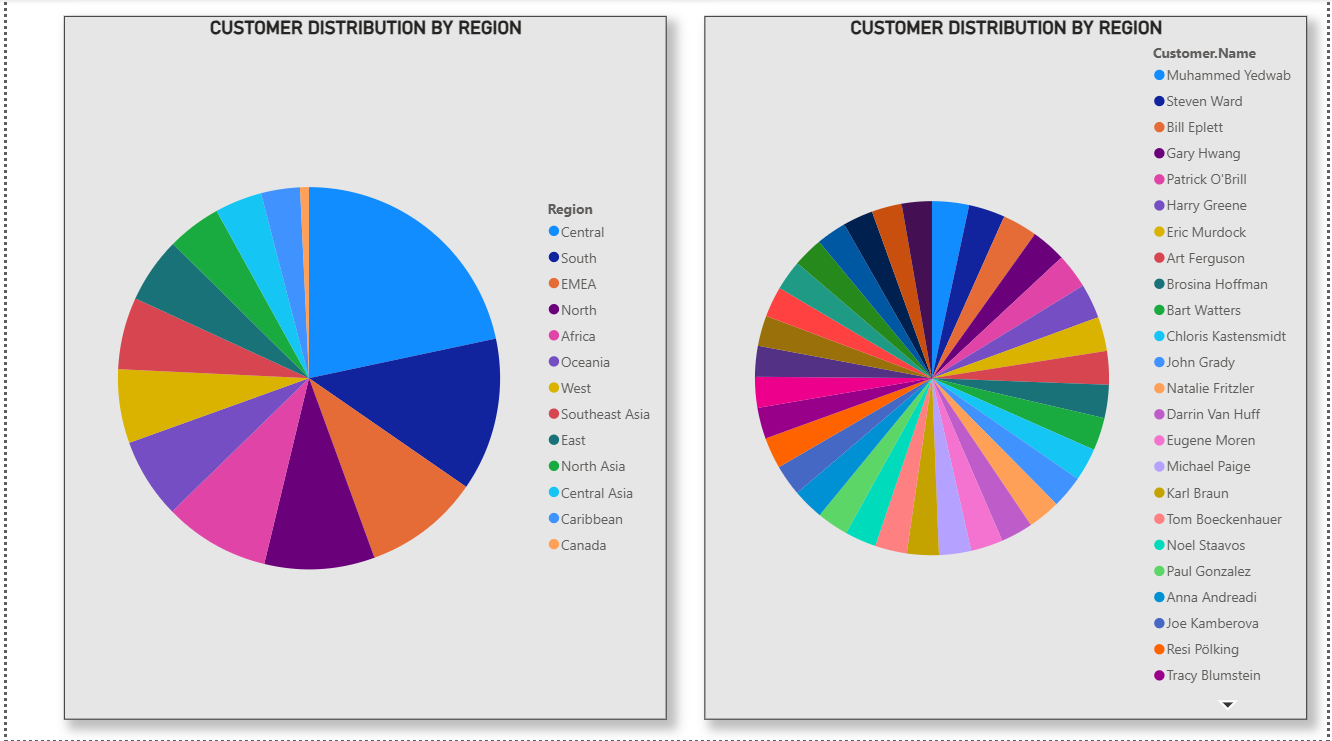

Layout of this report page (visuals, bound fields, positions):
{"tool":"powerbi","page":{"name":"CUSTOMER ANALYSIS","canvas":[1280,720],"ordinal":3},"visuals":[{"type":"pieChart","title":"CUSTOMER DISTRIBUTION BY REGION","fields":{"Y":["CountNonNull(superstore.Customer.Name)"],"Category":["superstore.Region"]},"box":[56,18.2,584.5,682.9],"z":0},{"type":"pieChart","title":"CUSTOMER DISTRIBUTION BY REGION","fields":{"Y":["CountNonNull(superstore.Order.ID)"],"Category":["superstore.Customer.Name"]},"box":[676.8,18.2,584.5,682.9],"z":1000}]}

Visuals, with their boxes in screenshot pixels (x1, y1, x2, y2), scaled from the page's 1280x720 canvas onto the 1332x741 screenshot:
"CUSTOMER DISTRIBUTION BY REGION" pieChart: <bbox>58, 19, 667, 722</bbox>
"CUSTOMER DISTRIBUTION BY REGION" pieChart: <bbox>704, 19, 1313, 722</bbox>
